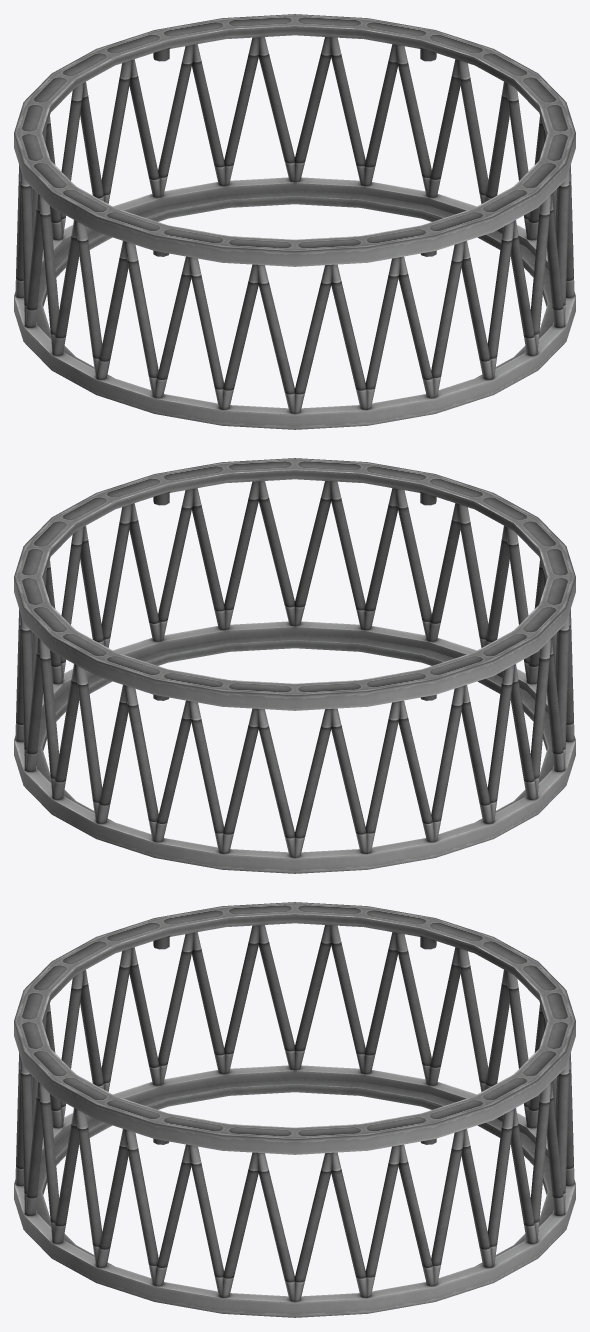
File: castor_truss_decoupler_s2_2.obj
3 renders of one model, top to bottom at view 1: azimuth 30°, elevation 25°; view 2: azimuth 150°, elevation 25°; view 3: azimuth 270°, elevation 25°, orthographic.
Parts seen in each view (by area): view 1: 2; view 2: 2; view 3: 2.
Part boxes in pixels (left/top/right/bottom): 2: left=14, top=14, right=575, bottom=429; 2: left=14, top=458, right=575, bottom=873; 2: left=14, top=902, right=575, bottom=1317.
Bounding box in the file's own units: 2.5 × 0.875 × 2.5.
1 material, 1 textured.
